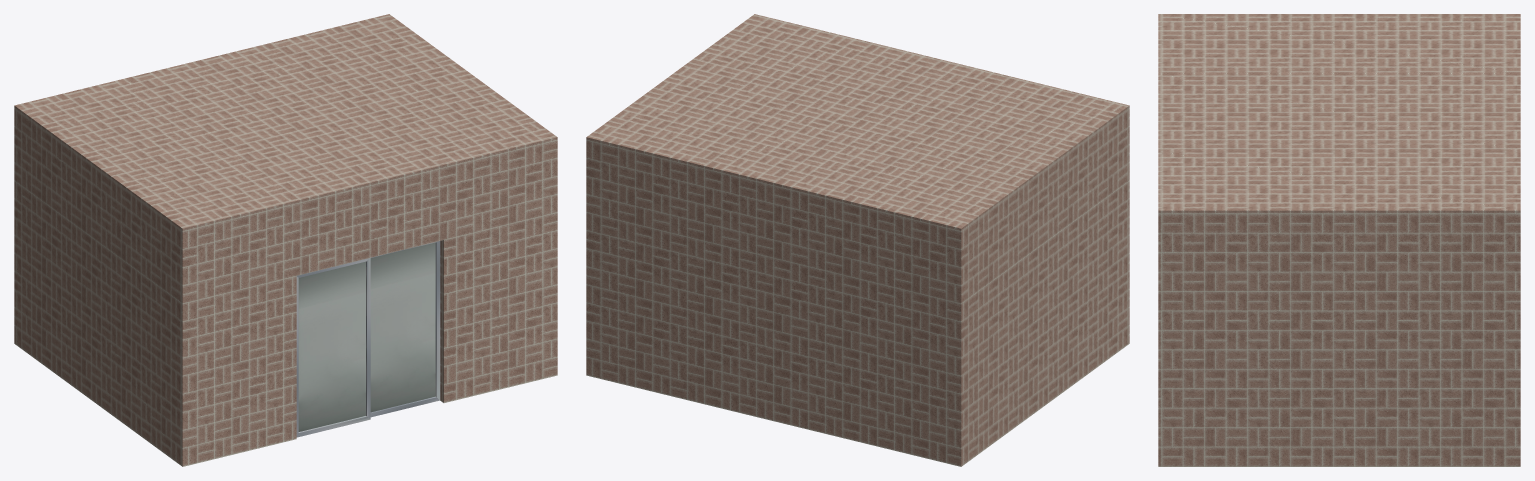
Rendered from EnterDoor_002.fbx.
3 views of the same model, side by side, from view 1: azimuth 30°, elevation 25°; view 2: azimuth 150°, elevation 25°; view 3: azimuth 270°, elevation 25° (orthographic). The views are drawn at different scales.
Parts seen in each view (by area): view 1: EnterDoor_002; view 2: EnterDoor_002; view 3: EnterDoor_002.
Part boxes in pixels (bbox=[...]): EnterDoor_002: bbox=[14, 14, 557, 466]; EnterDoor_002: bbox=[586, 14, 1129, 466]; EnterDoor_002: bbox=[1158, 14, 1520, 466].
Size of the model in its own units: 543 by 330 by 422.
2 materials, 2 textured.
